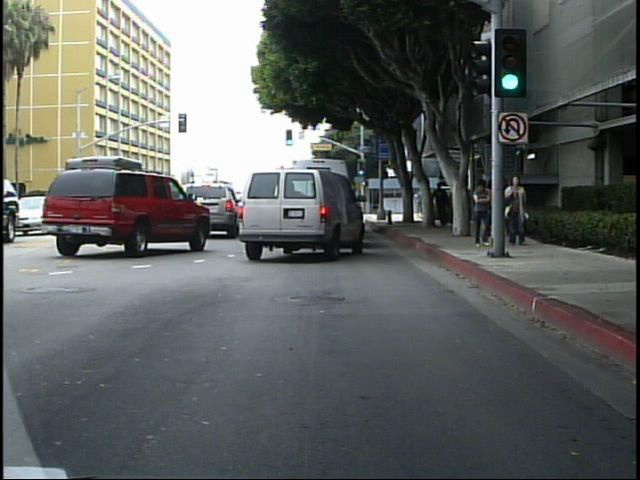person: (503, 170, 533, 255), (481, 174, 504, 249), (502, 172, 524, 244), (471, 174, 491, 246), (432, 176, 453, 231), (412, 185, 424, 217)
